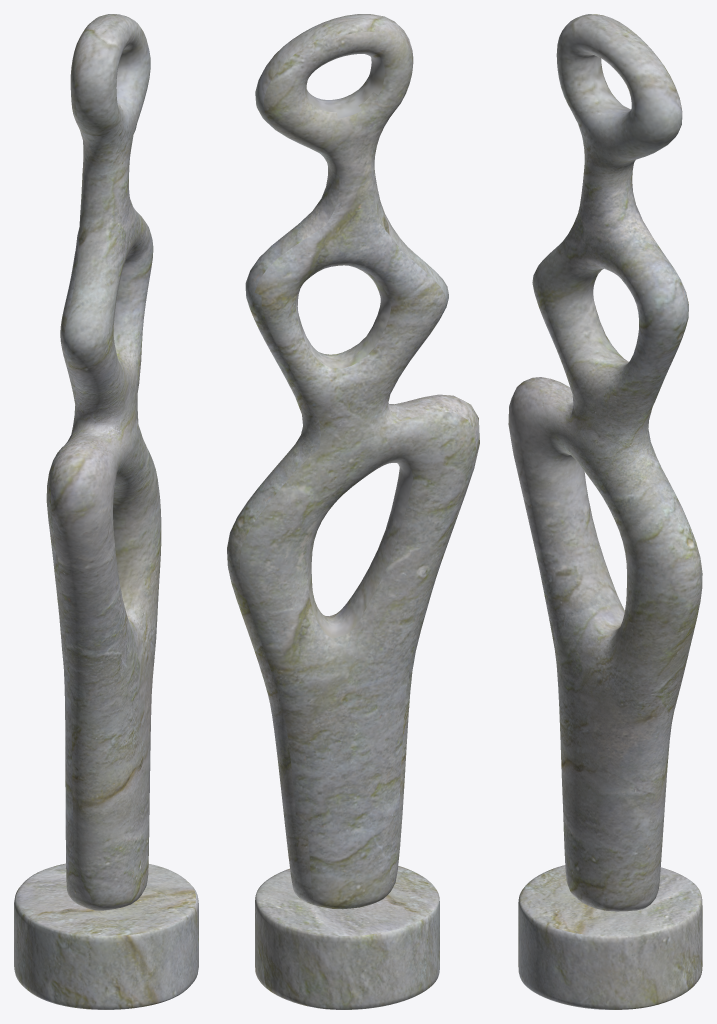
Rendered from Scultura.fbx.
3 renders of one model, left to right at view 1: azimuth 30°, elevation 25°; view 2: azimuth 150°, elevation 25°; view 3: azimuth 270°, elevation 25°, orthographic.
Parts seen in each view (by area): view 1: Scultura; view 2: Scultura; view 3: Scultura.
Boxes of the visible parts, <box> form: Scultura: <box>14,14,198,1009</box>; Scultura: <box>227,14,479,1009</box>; Scultura: <box>508,14,702,1009</box>.
Bounding box in the file's own units: 41.85 × 218 × 40.35.
